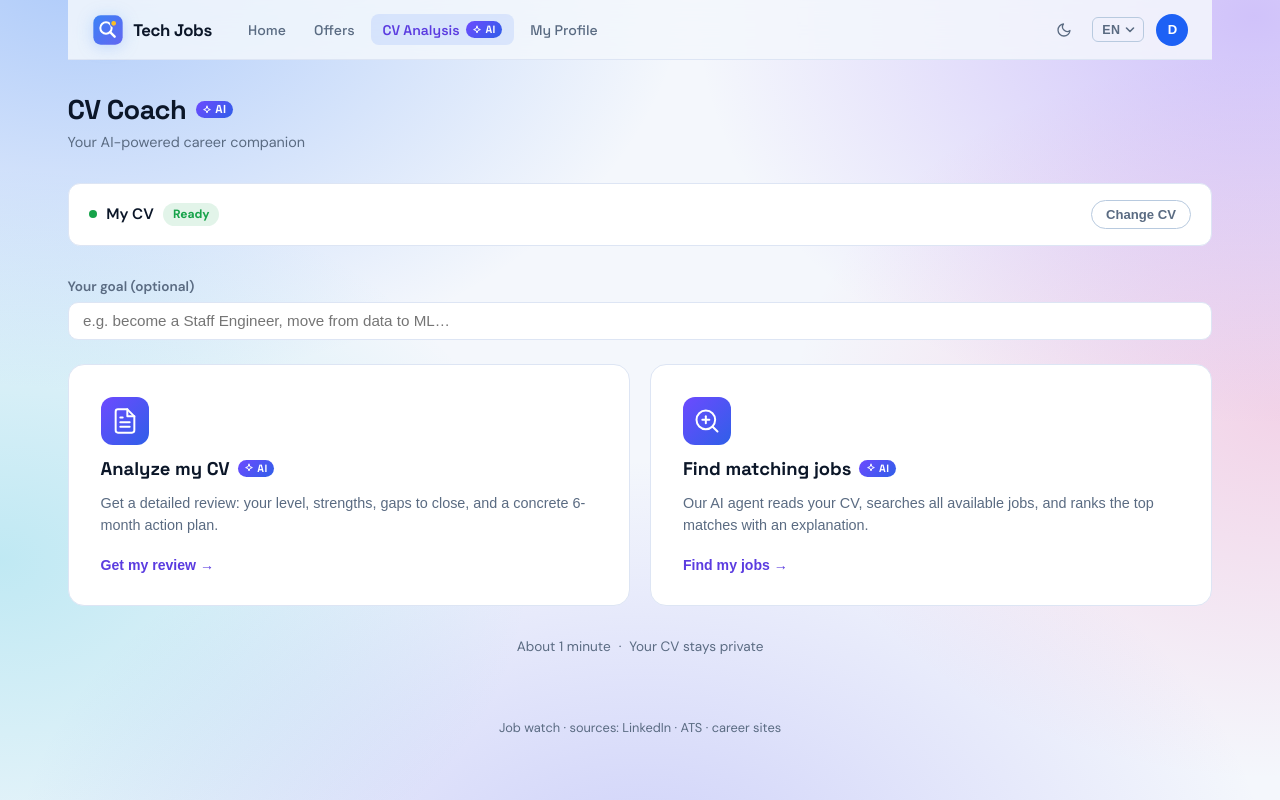
Scenario: CoachPage (integration) › signed in with a CV › matches offers with the selected filters and lists the results
The image size is (1280, 800).
Check: the text "My CV" is shown, box [106,204,154,224]
Step 1. Click the button "Find matching jobs" → [707, 421], box [650,364,1212,606]
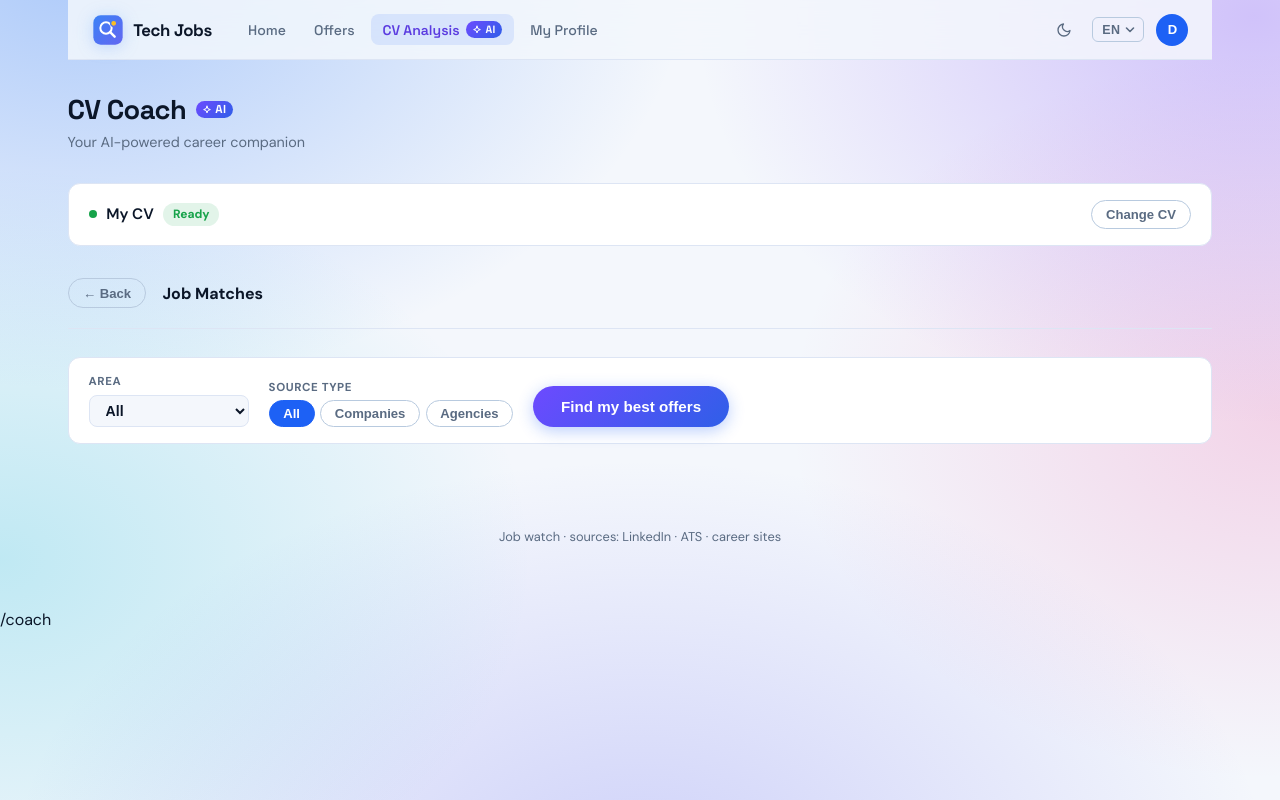
Step 2. Select "Tel Aviv" in the dropdown labelled "Area" → [169, 411], box [89,395,249,427]
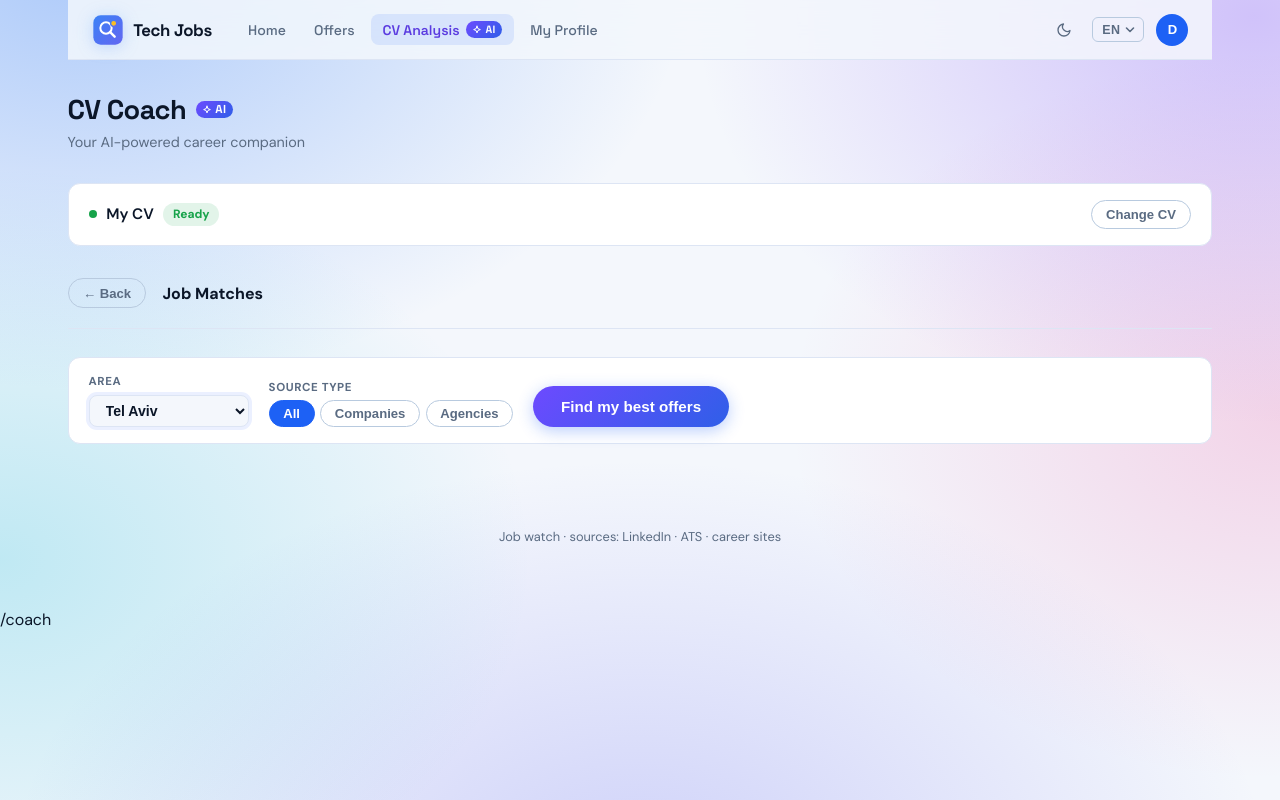
Step 3. Click the button "Agencies" → [469, 414], box [426,400,513,427]
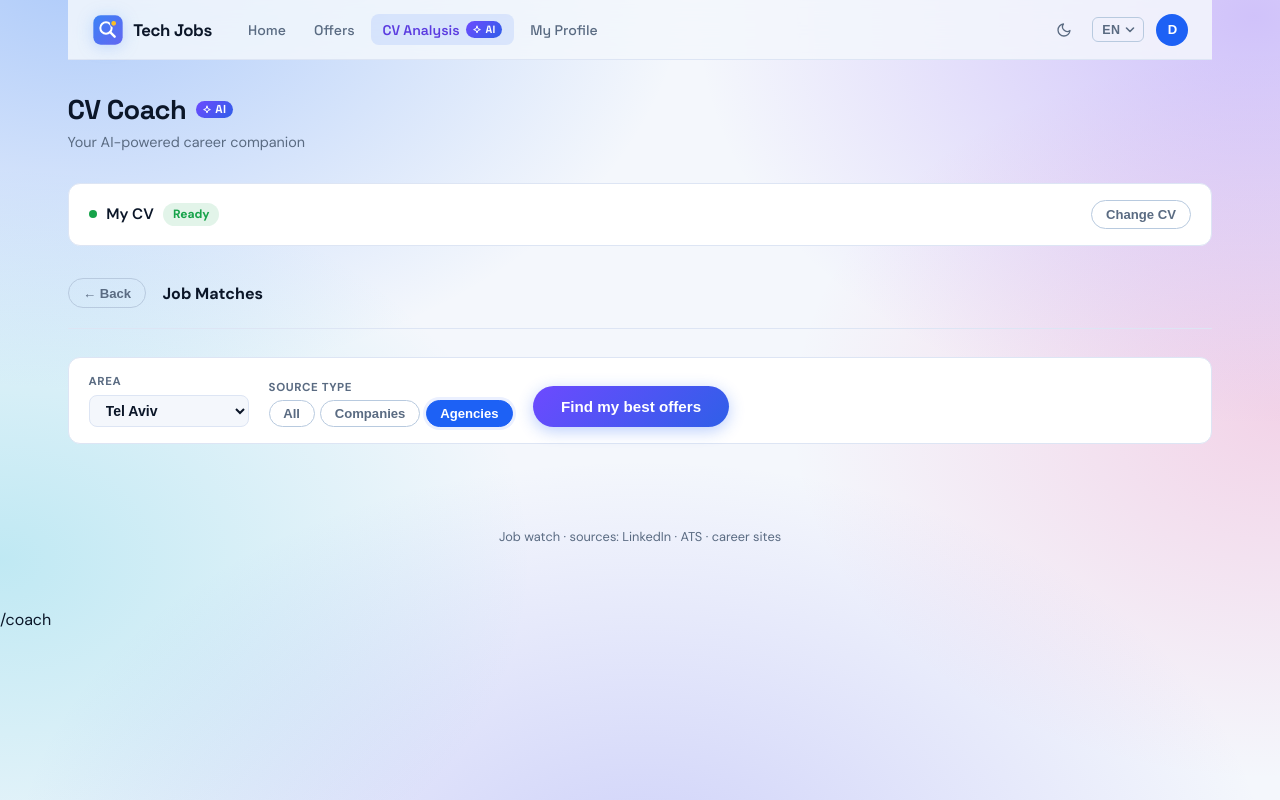
Step 4. Click the button "Find my best offers" → [631, 406], box [533,386,729,427]
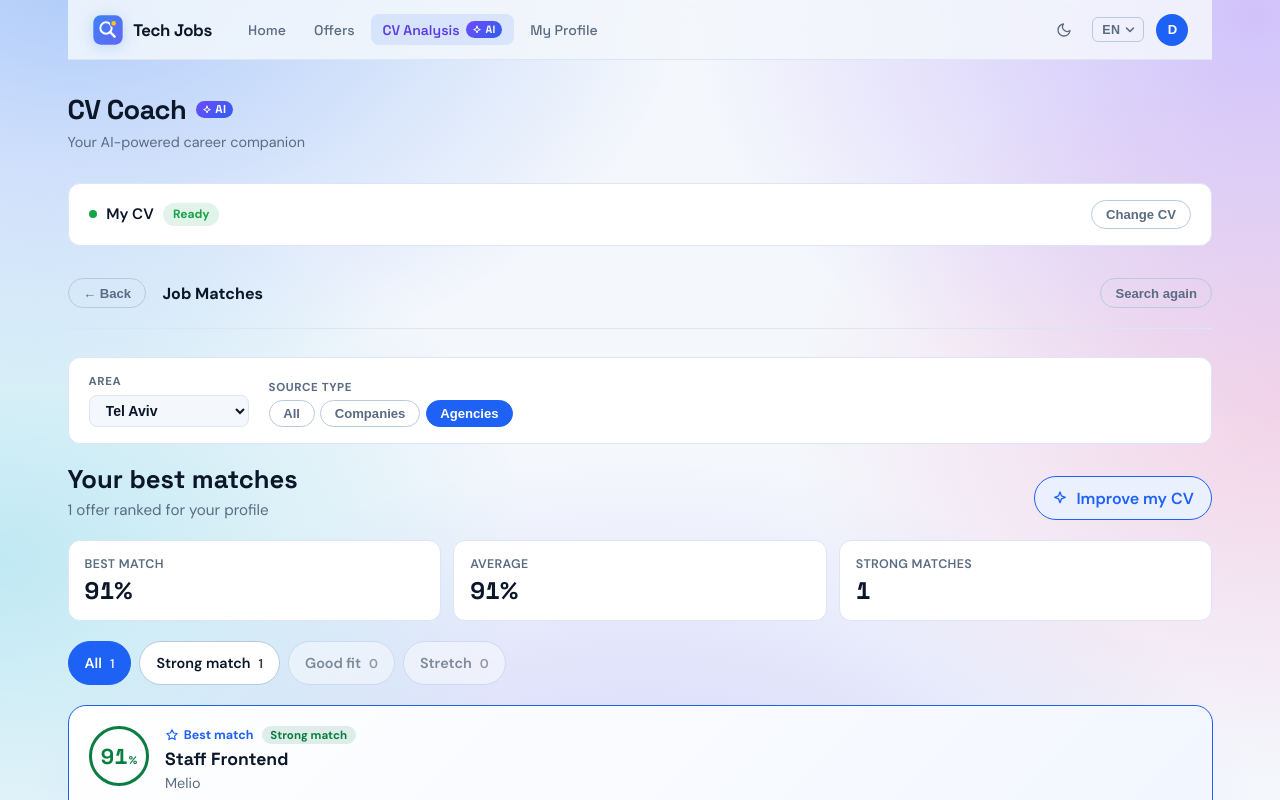
Check: the heading "Staff Frontend" is shown, box [165,748,288,770]
